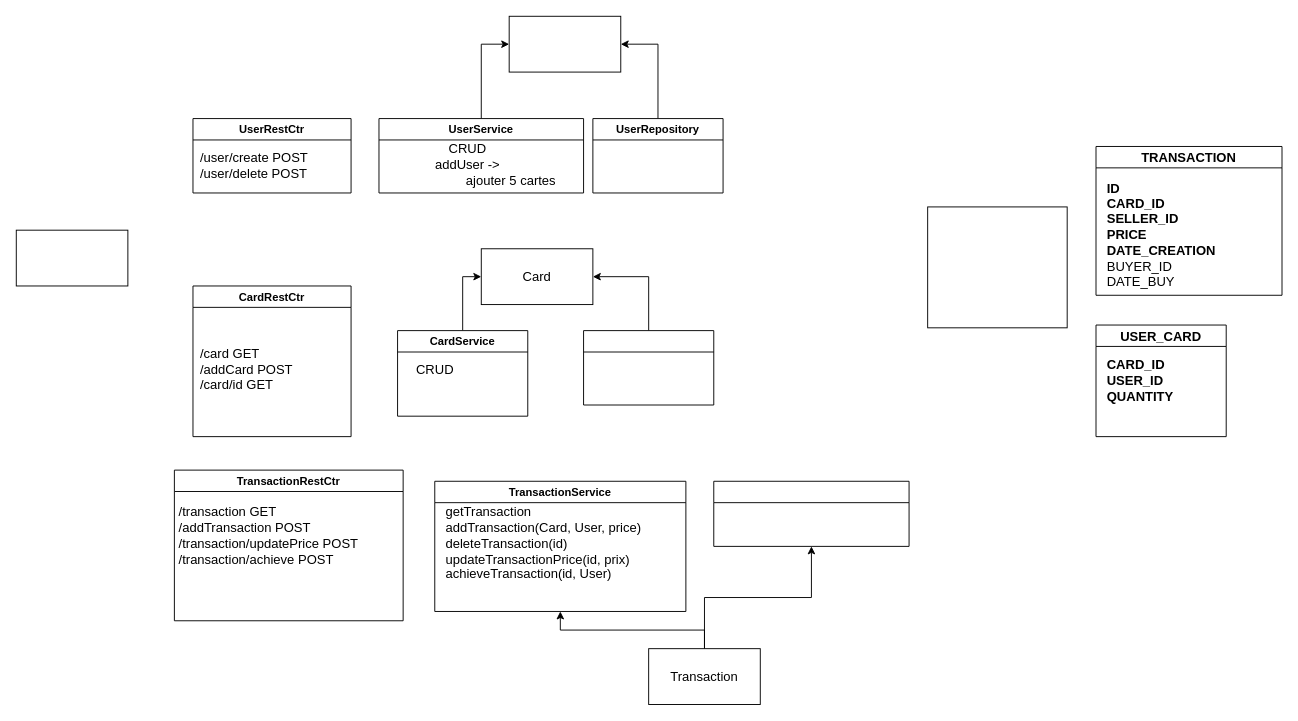
Image size: 1298x721. Some labels were removed from this diagram. Here are the shapes that lost their labels. From the top down, the centre of each, then its label:
the point at 564,43: User
the point at 71,257: CLIENT
the point at 997,267: BD USER CARD TRANSACTION USER_CARD
the point at 648,367: CardRepository
the point at 811,513: TransactionRepository
